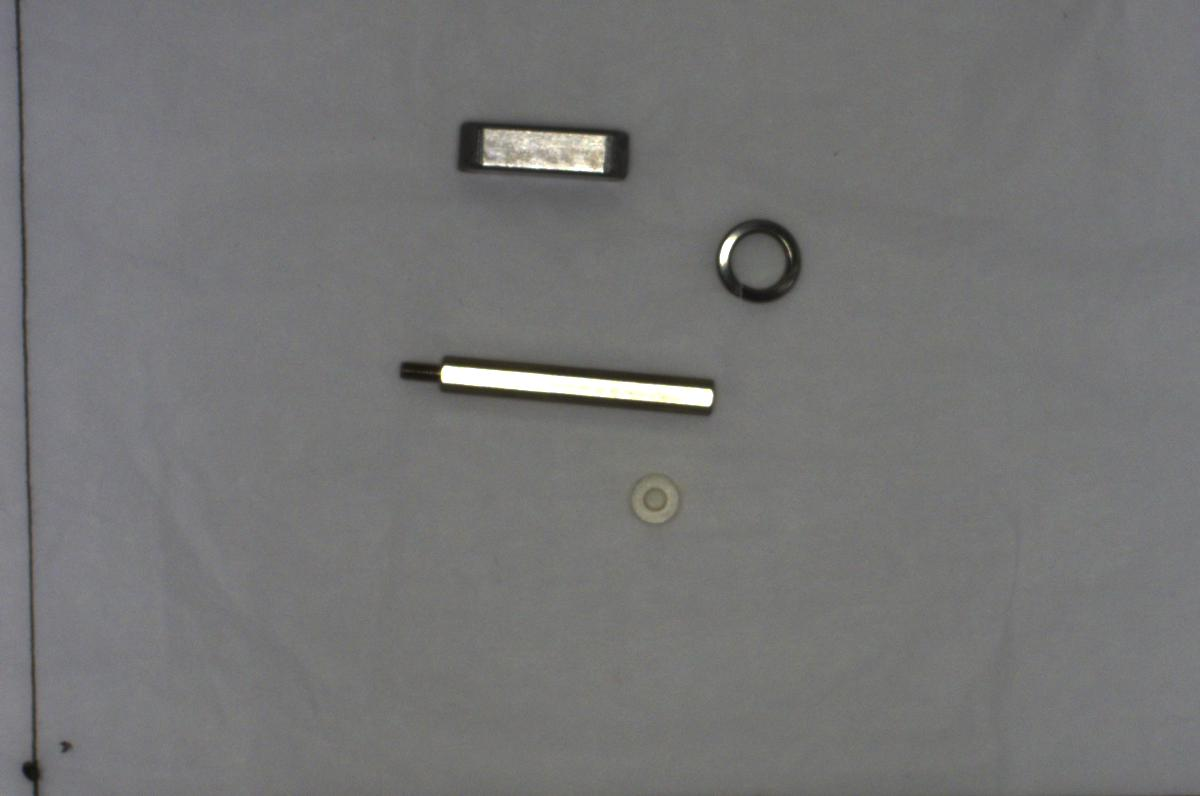Hexagonal steel column: (391, 348, 725, 429)
Keybar: (450, 109, 637, 194)
Plastic cushion pillar: (622, 467, 682, 532)
Spring washer: (710, 208, 812, 308)
